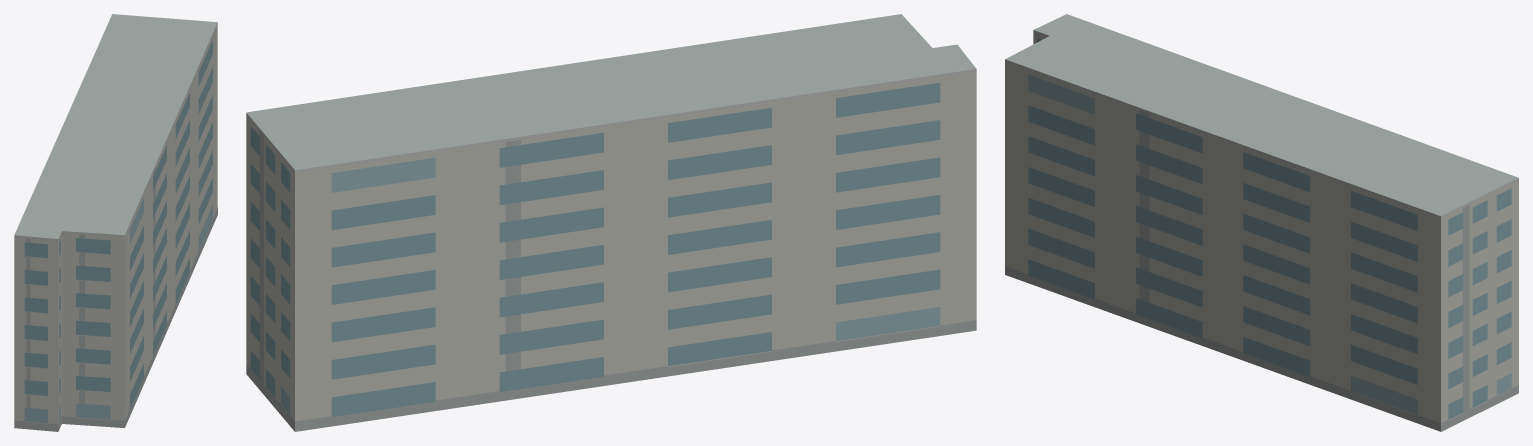
File: survey-upis-32935005.glb
3 views of the same model, side by side, from view 1: azimuth 30°, elevation 25°; view 2: azimuth 150°, elevation 25°; view 3: azimuth 270°, elevation 25° (orthographic). The views are drawn at different scales.
Visible parts, largest first — view 1: survey-upis-32935005.tmp; view 2: survey-upis-32935005.tmp; view 3: survey-upis-32935005.tmp.
Boxes of the visible parts, x1,y1,x2,y2 form: survey-upis-32935005.tmp: [14, 14, 217, 431]; survey-upis-32935005.tmp: [246, 14, 976, 431]; survey-upis-32935005.tmp: [1005, 14, 1518, 431].
Size of the model in its own units: 42.99 by 21.35 by 46.12.
